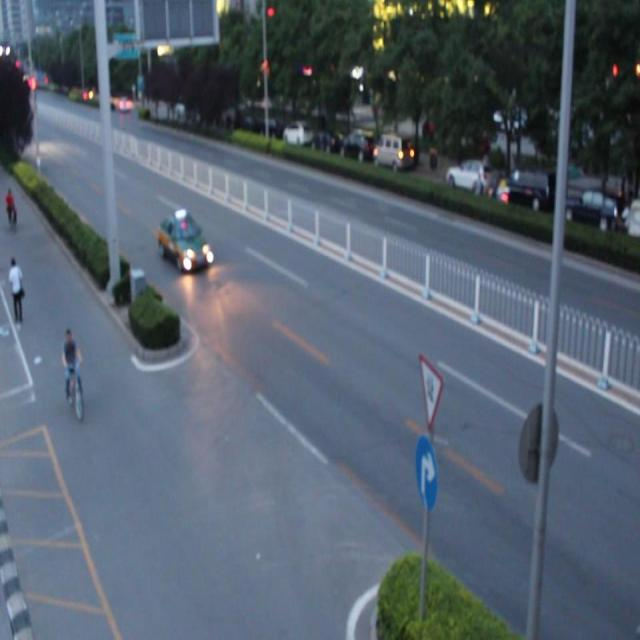car: (158, 209, 212, 273)
